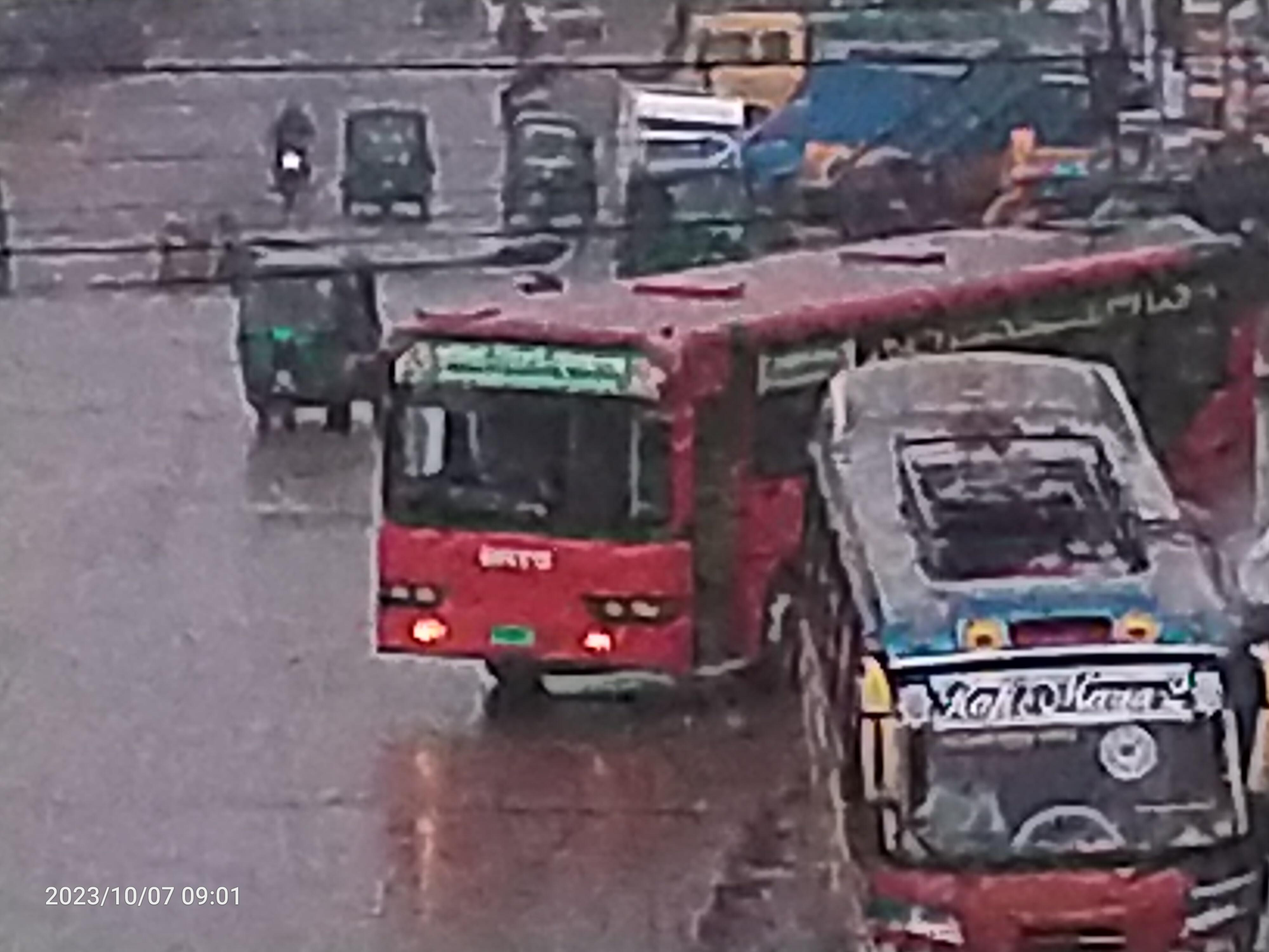Bike: (252, 84, 332, 207)
Bus: (307, 160, 1248, 698), (755, 341, 1269, 952)
